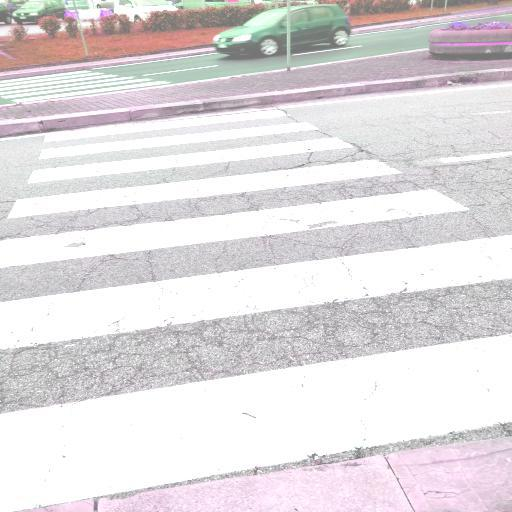crosswalk: (6, 127, 406, 224)
